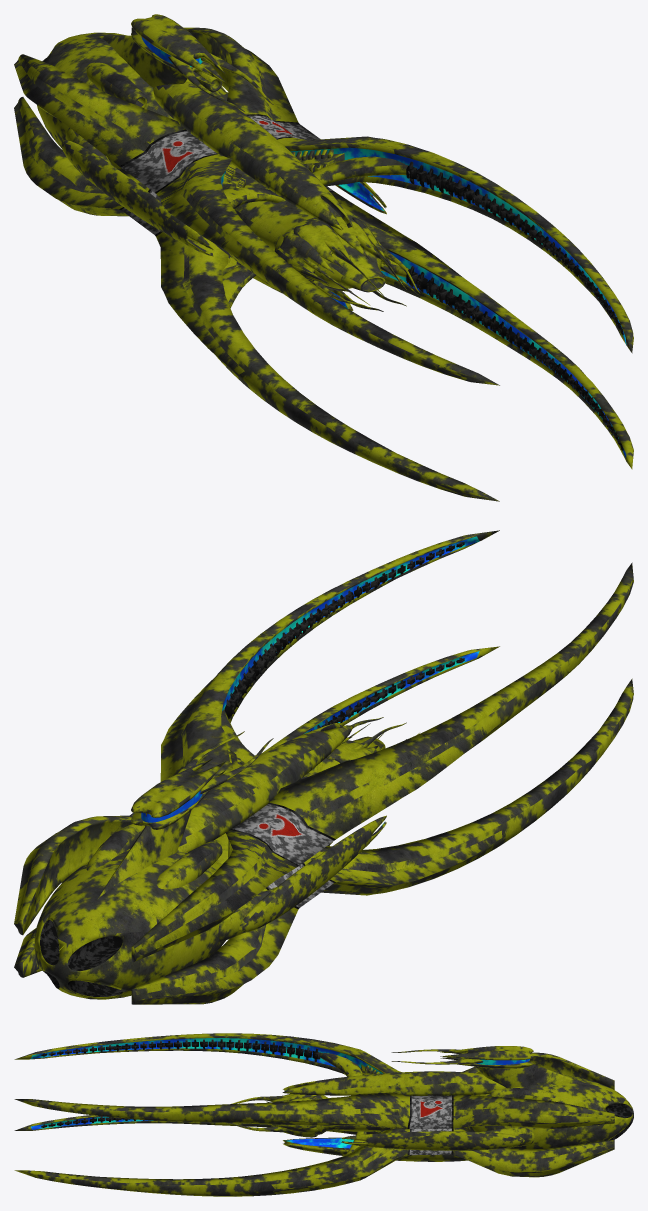
The model's file is vorlon-dreadnought.glb.
3 renders of one model, top to bottom at view 1: azimuth 30°, elevation 25°; view 2: azimuth 150°, elevation 25°; view 3: azimuth 270°, elevation 25°, orthographic. The views are drawn at different scales.
Visible parts, largest first — view 1: vor_dred_update; view 2: vor_dred_update; view 3: vor_dred_update.
Boxes of the visible parts, x1,y1,x2,y2 form: vor_dred_update: [14, 14, 633, 501]; vor_dred_update: [14, 530, 633, 1004]; vor_dred_update: [14, 1033, 633, 1196].
Bounding box in the file's own units: 87.65 × 57.41 × 291.
Materials: 4 (4 with a texture image).
